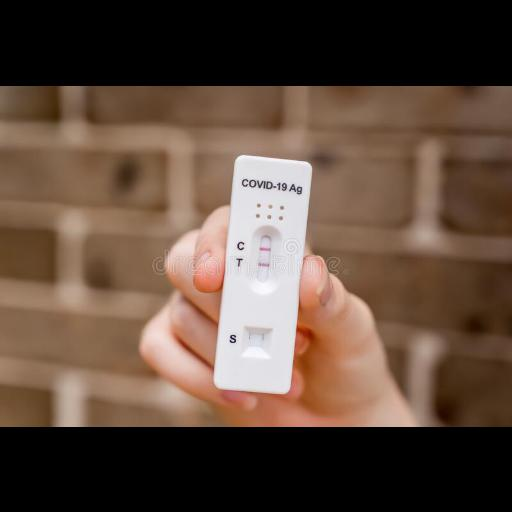Pos: (213, 152, 313, 394)
